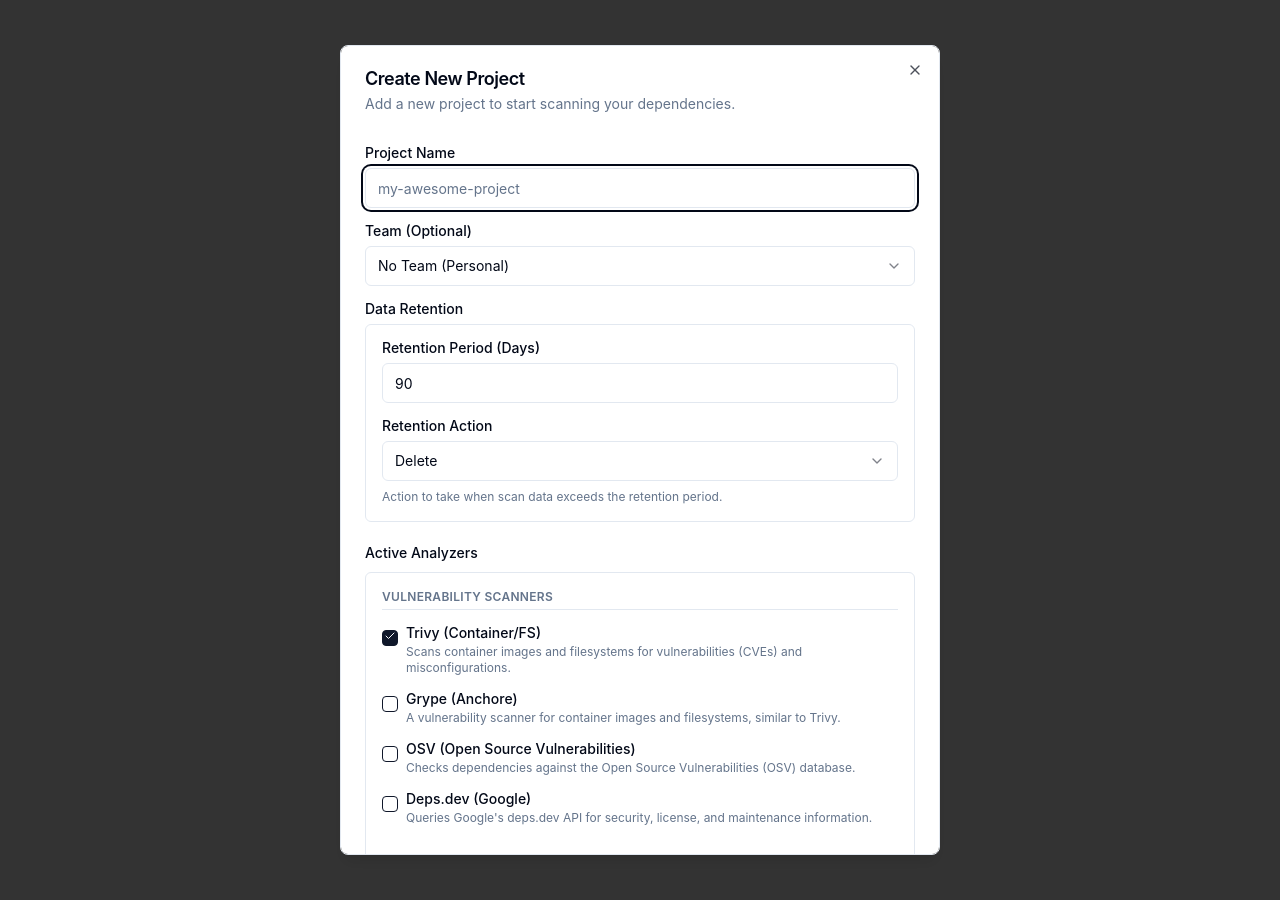
Test: CreateProjectDialog after a project was created › shows the key in the key rotation dialog's layout: default width, the one-time warning once, the key in a copy field
The width and height of the screenshot is (1280, 900).
In the field labelled "Project Name": x=640, y=188 left=365, top=168, right=915, bottom=208, type "svc"
(page scrolled)
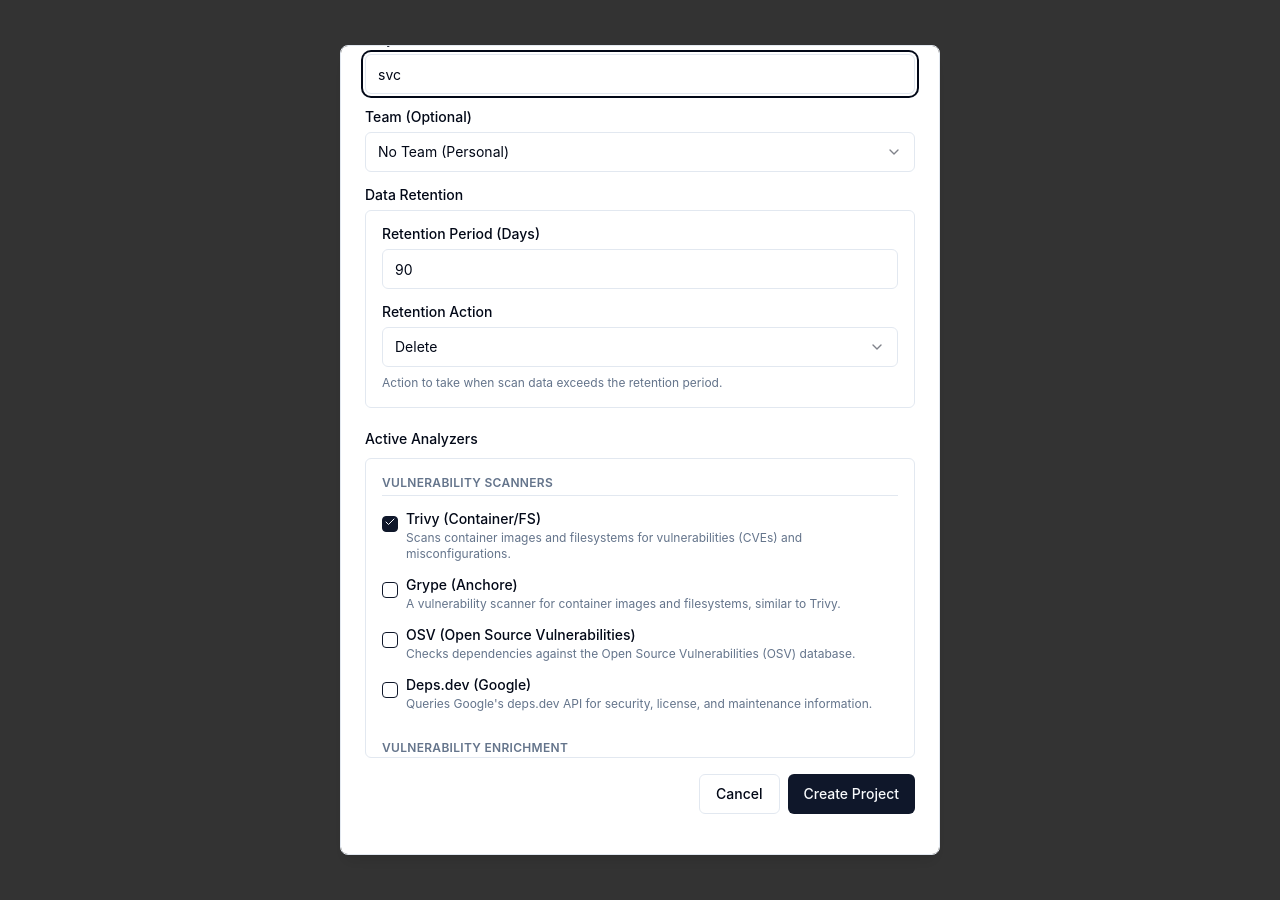
Click the button "Create Project": x=851, y=794 left=788, top=774, right=915, bottom=814
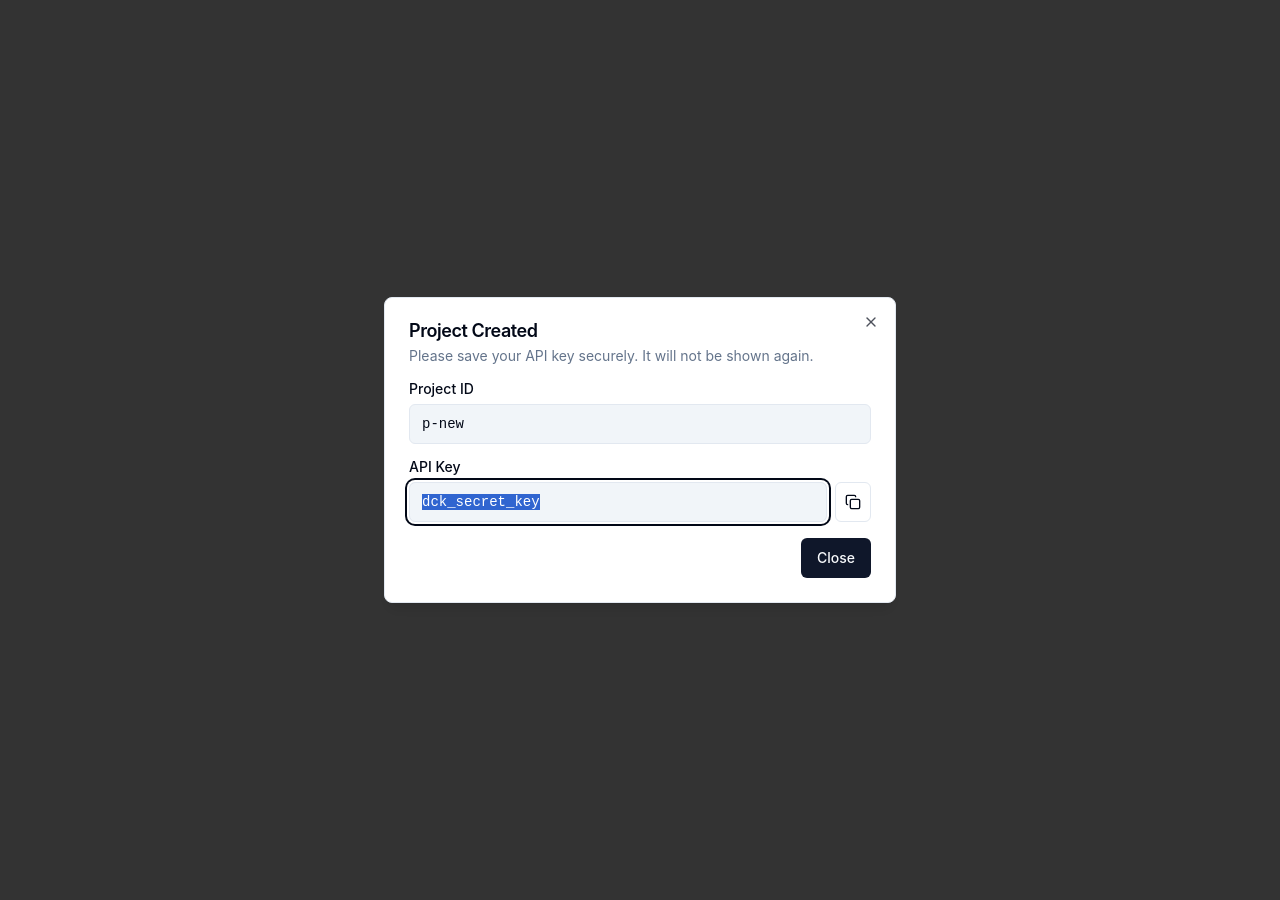
Result: the button named "Copy API key" is shown at left=835, top=482, right=871, bottom=522
Result: the field labelled "Project ID" holds "p-new" at left=409, top=404, right=871, bottom=444
